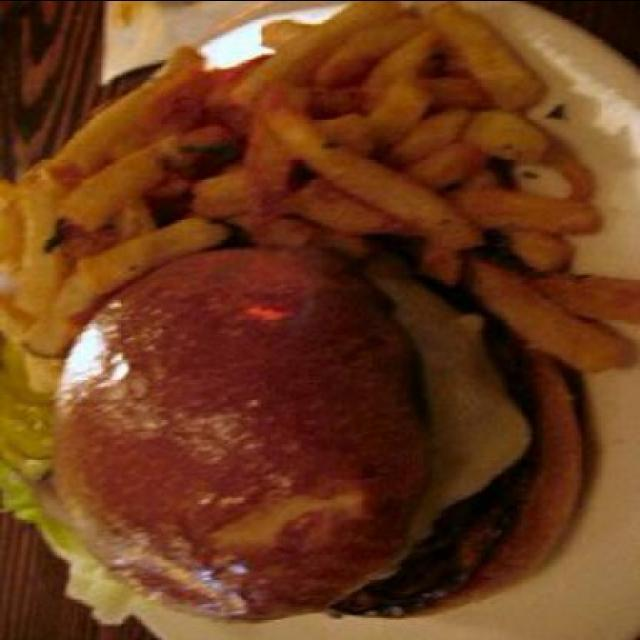Hamburger: (56, 245, 592, 622)
